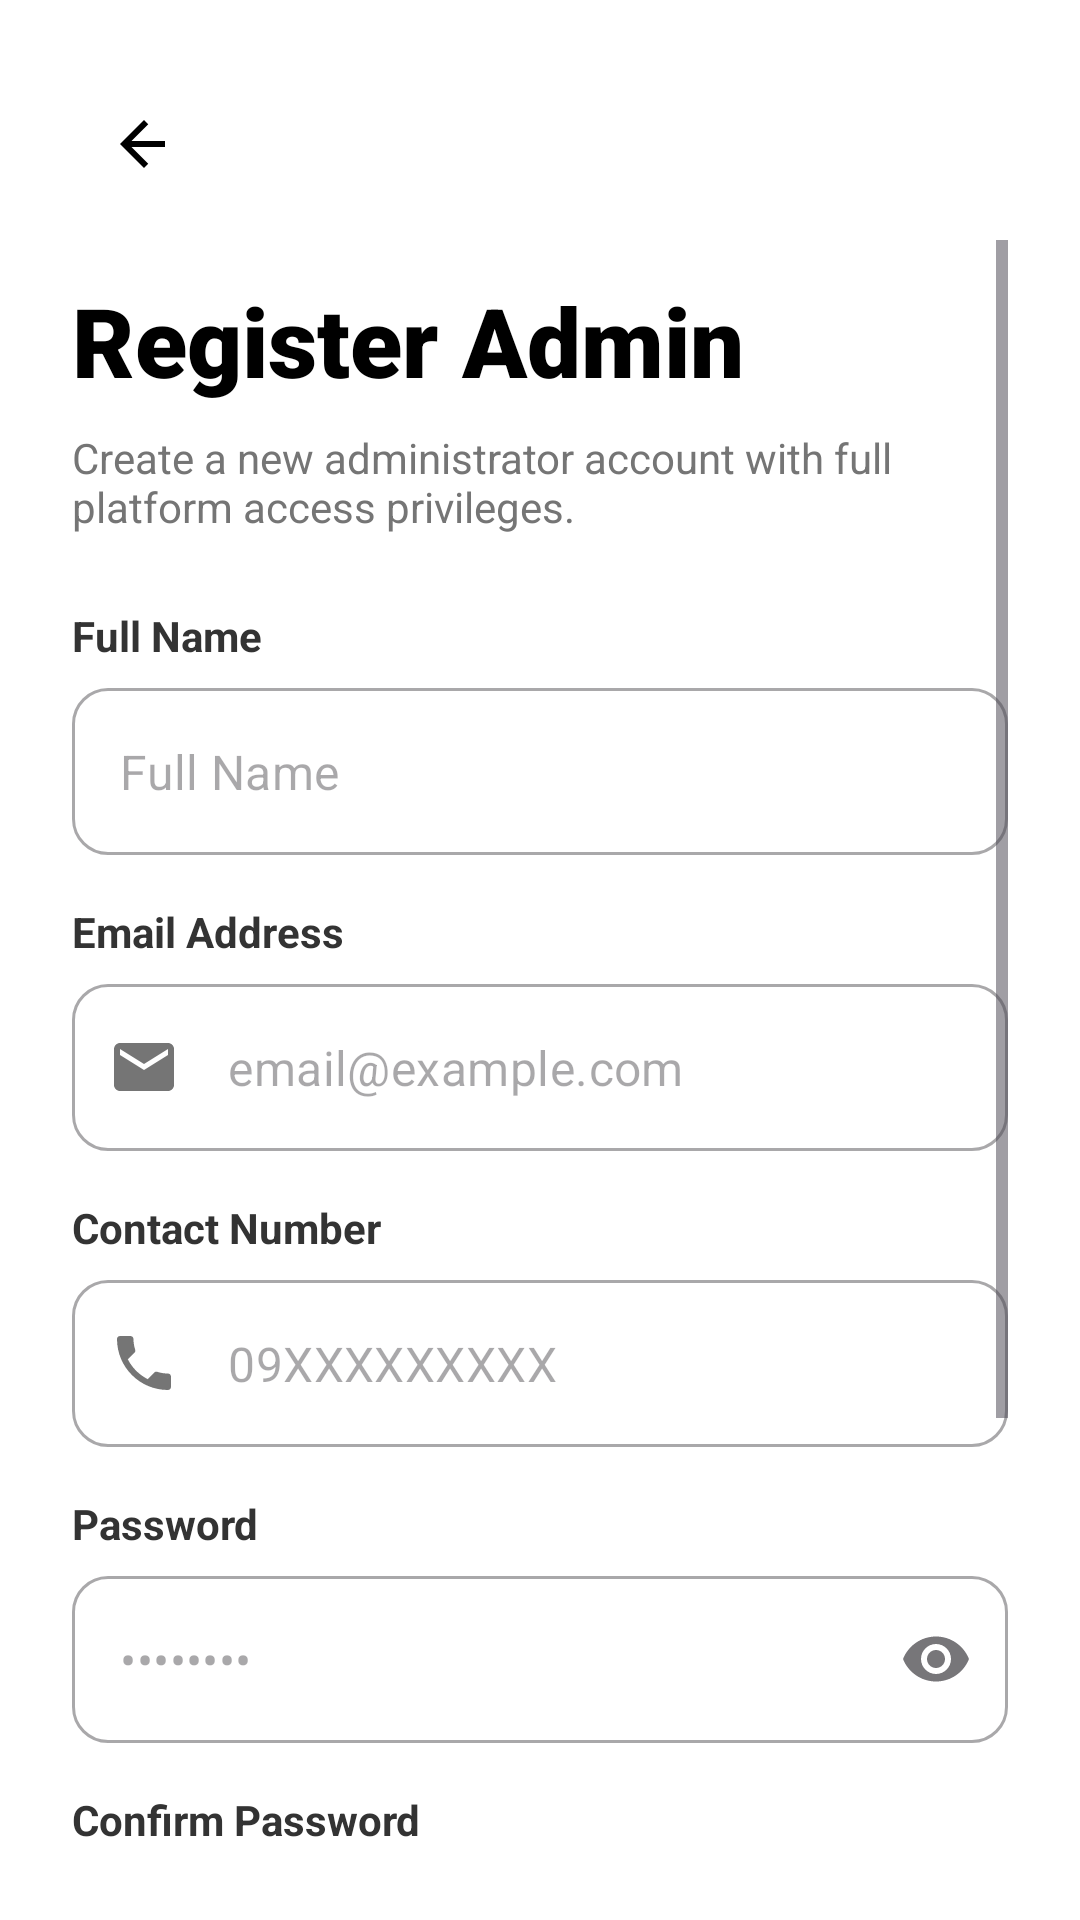

Screen size 1080px×1920px. Icon name, then its center in pixels as (x,y):
Back: (142,144)
